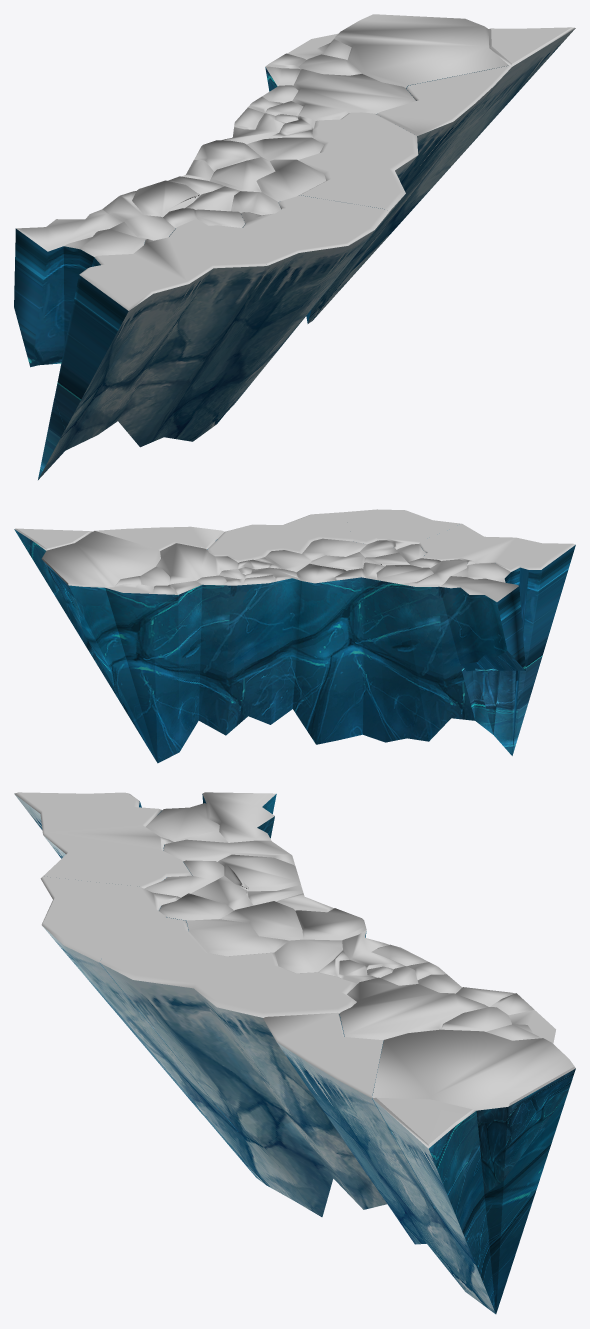
File: IceEdge1.fbx
3 renders of one model, top to bottom at view 1: azimuth 30°, elevation 25°; view 2: azimuth 150°, elevation 25°; view 3: azimuth 270°, elevation 25°, orthographic. The views are drawn at different scales.
Parts seen in each view (by area): view 1: icecrownraid_arthas_precipice_phase1_quad1; view 2: icecrownraid_arthas_precipice_phase1_quad1; view 3: icecrownraid_arthas_precipice_phase1_quad1.
Boxes of the visible parts, x1,y1,x2,y2 form: icecrownraid_arthas_precipice_phase1_quad1: (14,14,575,479); icecrownraid_arthas_precipice_phase1_quad1: (14,509,575,763); icecrownraid_arthas_precipice_phase1_quad1: (14,792,575,1314).
Bounding box in the file's own units: 7515 × 2920 × 4919.
